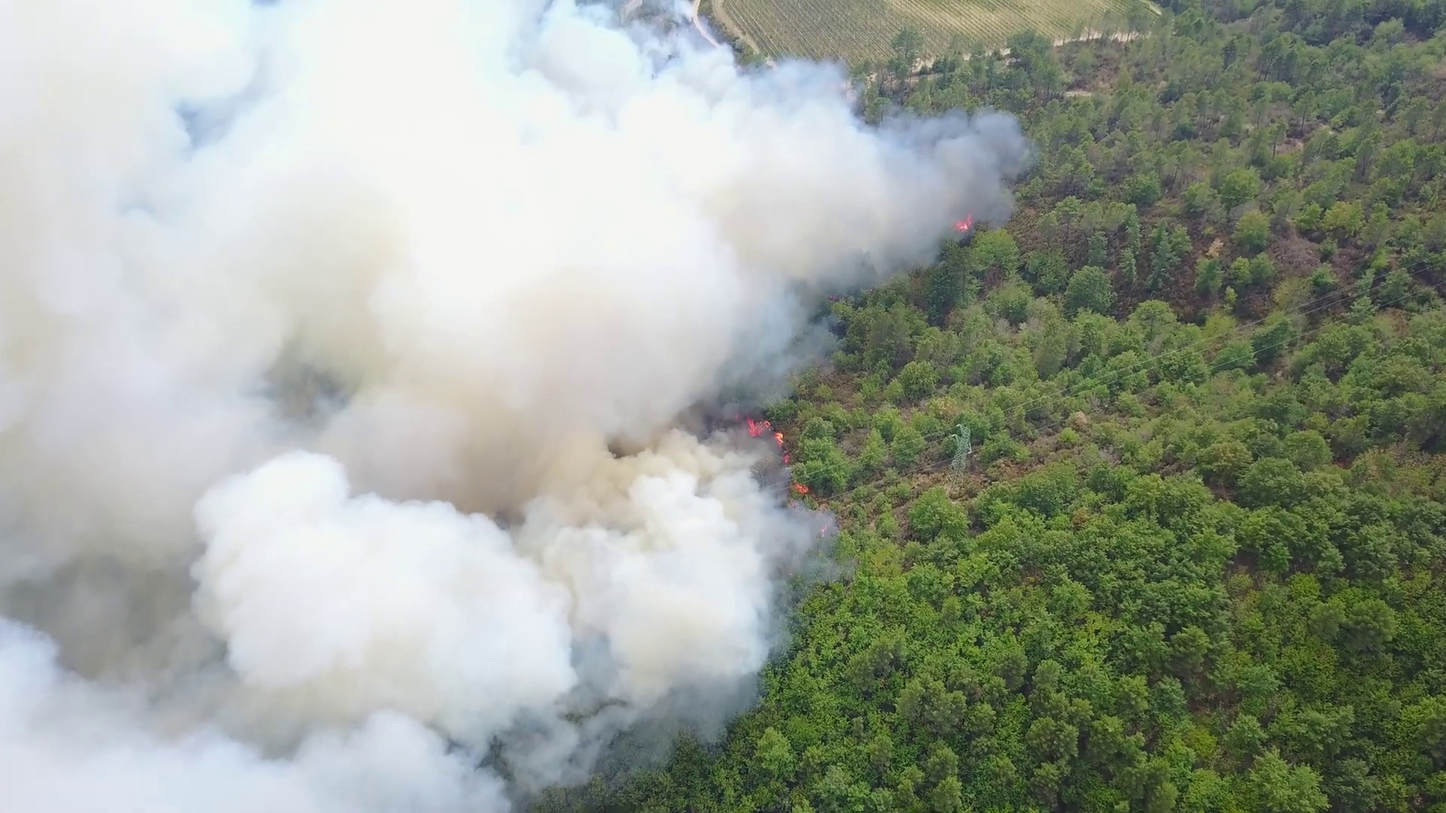forest_fire: (746, 419, 792, 464), (954, 215, 976, 244), (789, 482, 811, 495)
